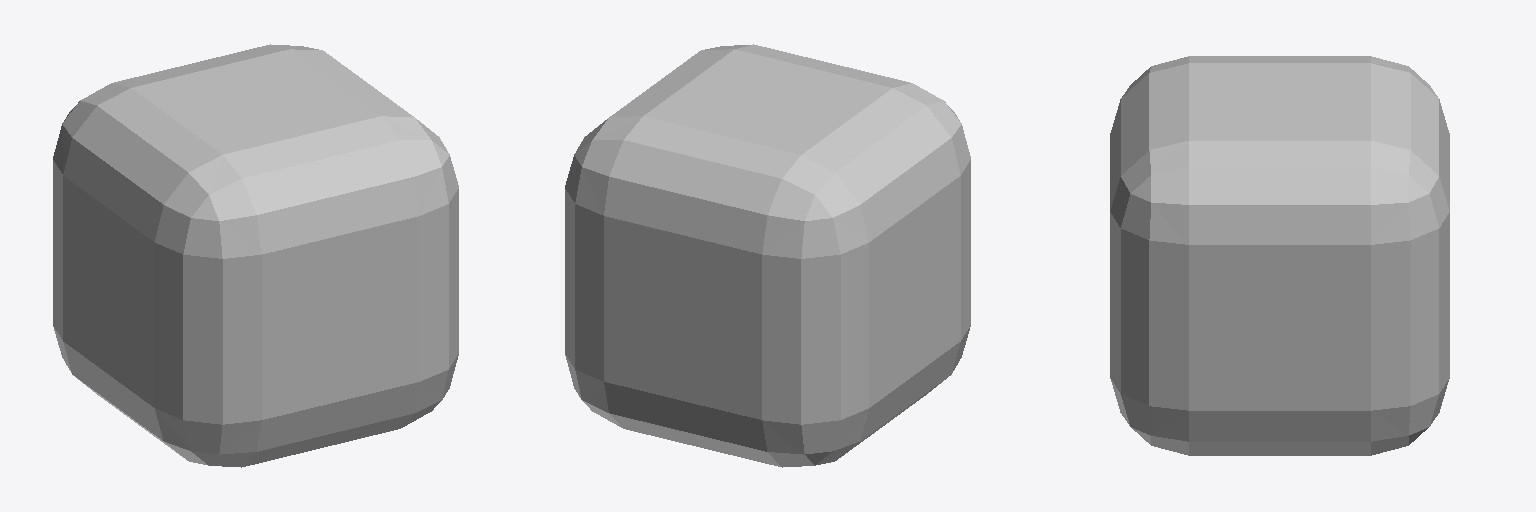
File: frozen cheese.obj
3 views of the same model, side by side, from view 1: azimuth 30°, elevation 25°; view 2: azimuth 150°, elevation 25°; view 3: azimuth 270°, elevation 25° (orthographic).
Parts seen in each view (by area): view 1: frozen_fancy_cheese_Cube; view 2: frozen_fancy_cheese_Cube; view 3: frozen_fancy_cheese_Cube.
Part boxes in pixels (x1,y1,x2,y2): frozen_fancy_cheese_Cube: (53,44,458,467); frozen_fancy_cheese_Cube: (565,44,970,467); frozen_fancy_cheese_Cube: (1110,56,1449,455).
Bounding box in the file's own units: 2.08 × 2.08 × 2.08.